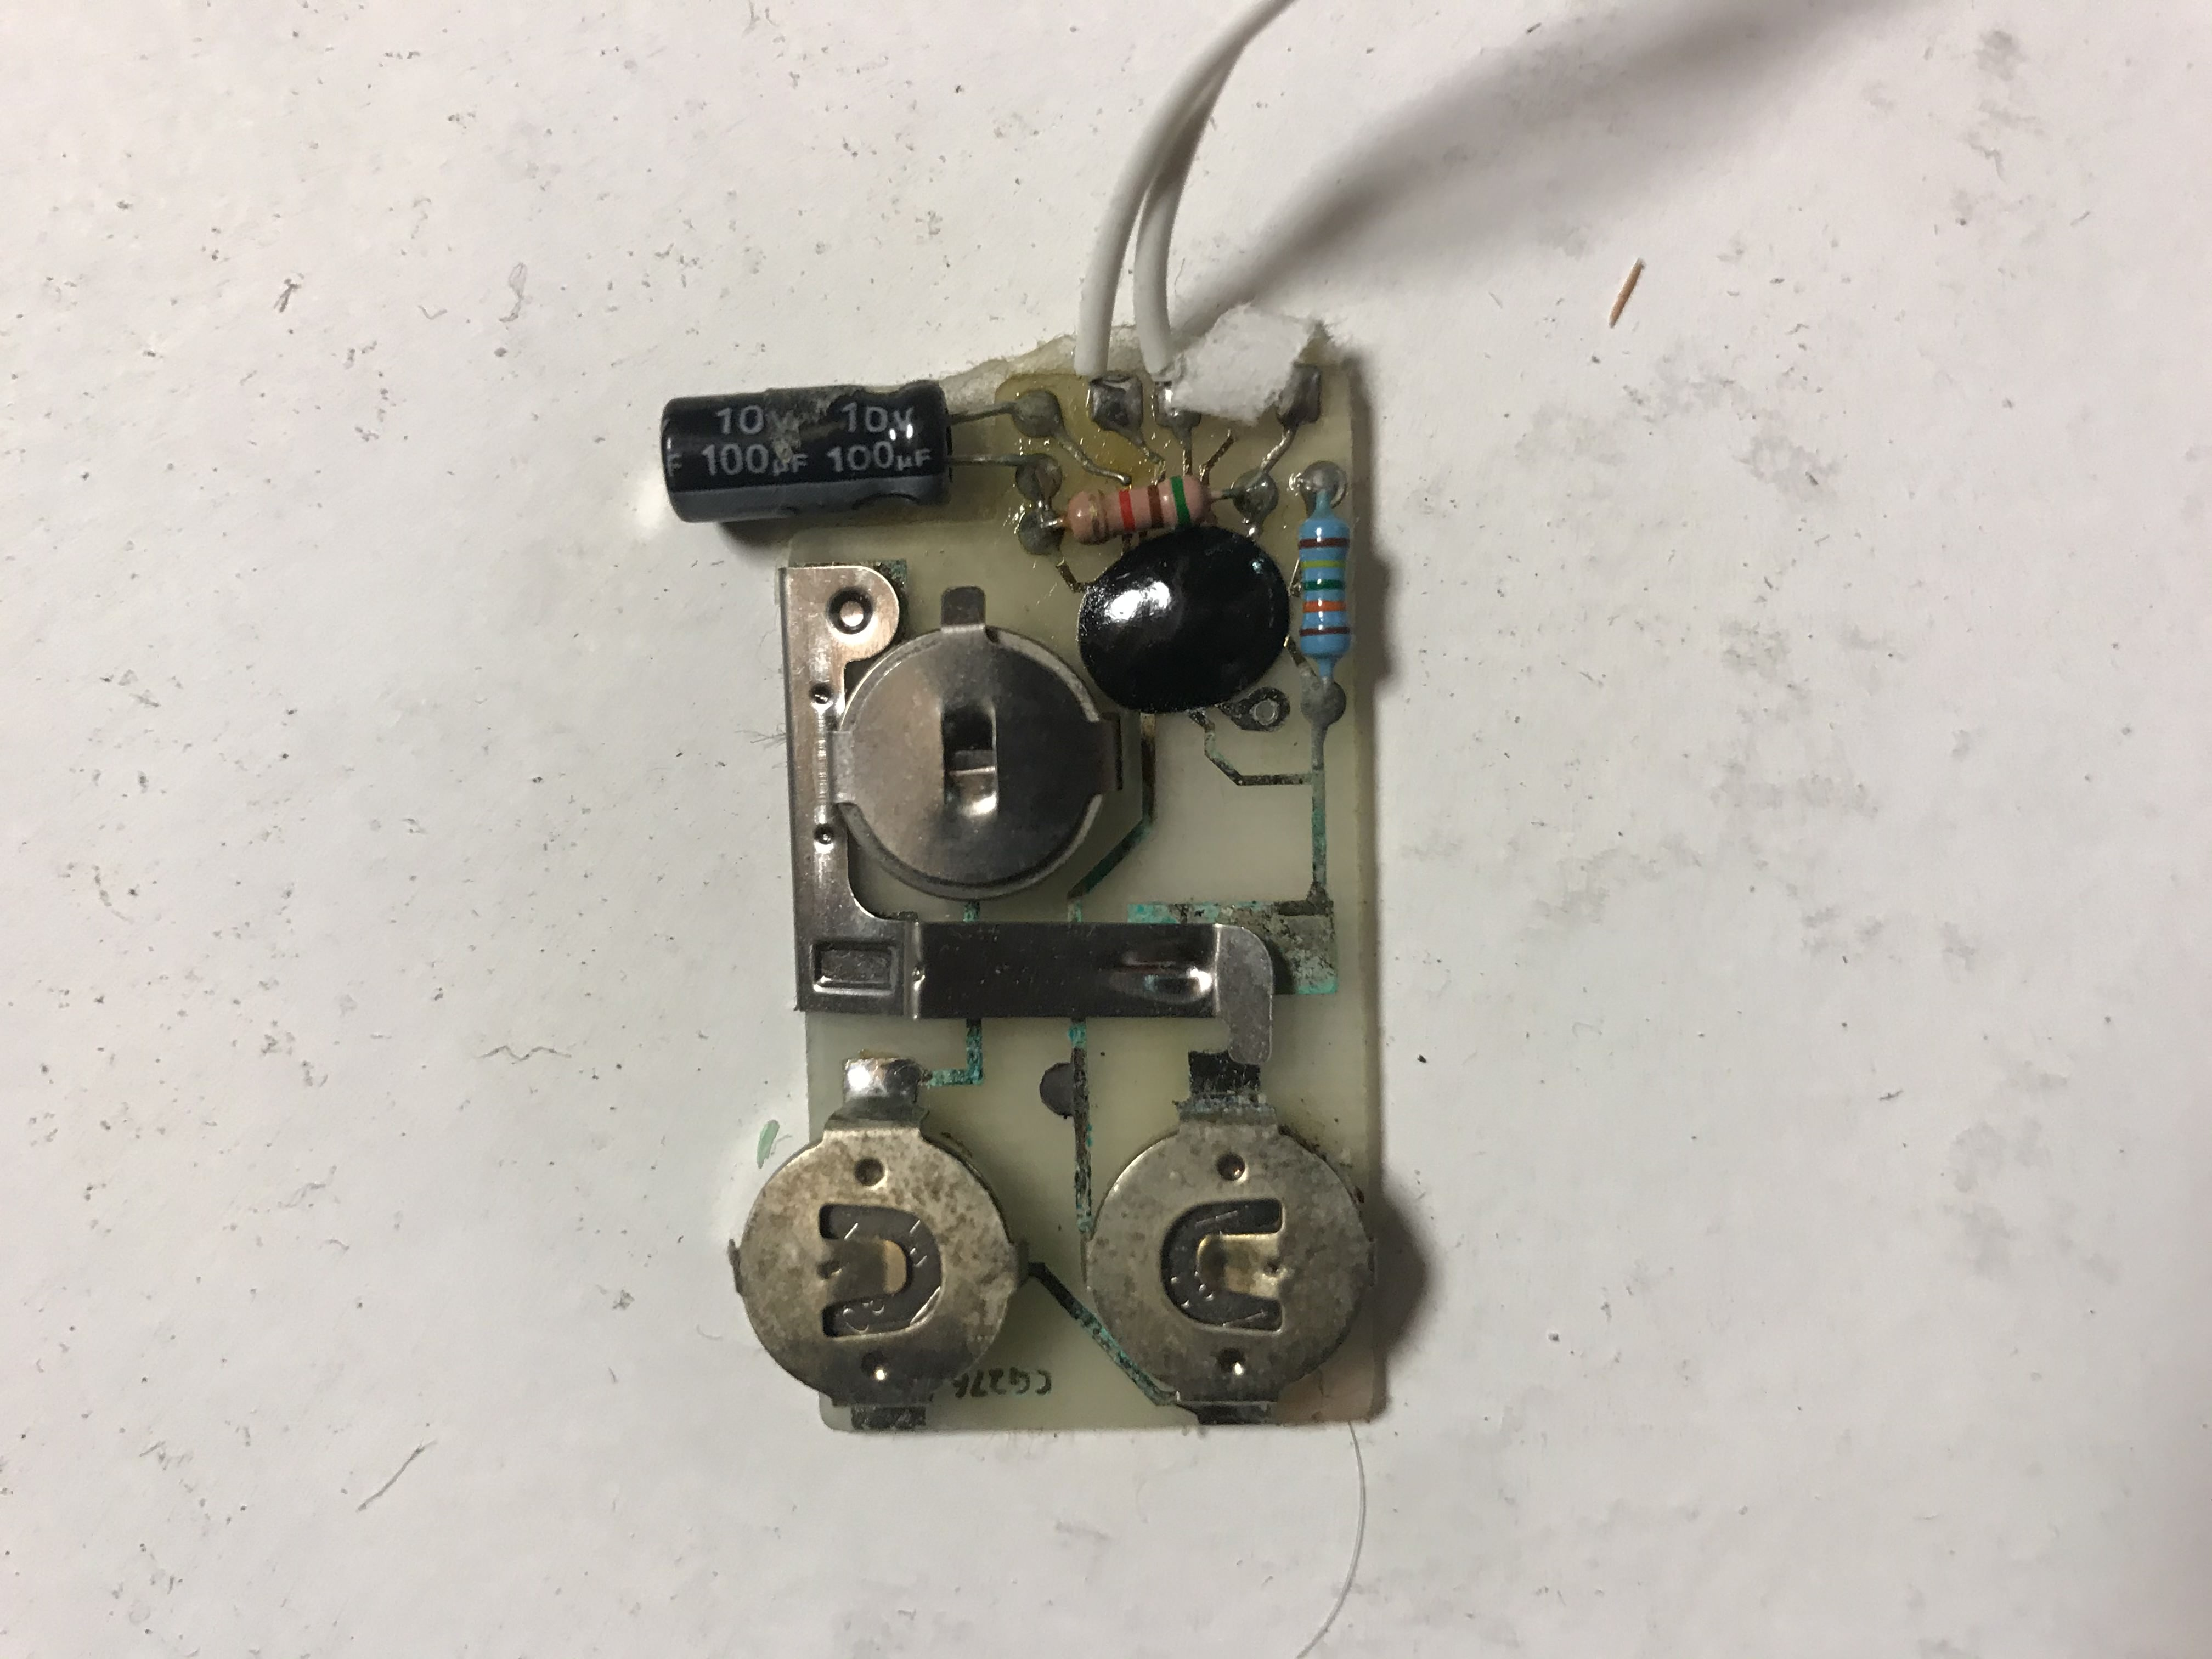Capacitor: (646, 375, 1014, 535)
Resistor: (1282, 495, 1366, 685), (1055, 467, 1224, 544)
